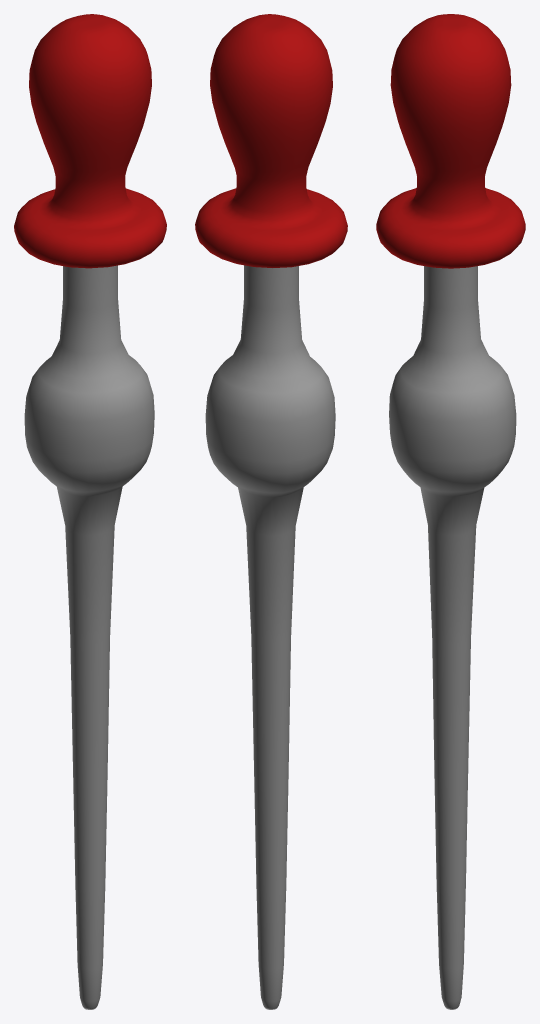
File: Cuentagotas.fbx
The picture shows the model from 3 angles, left to right: view 1: azimuth 30°, elevation 25°; view 2: azimuth 150°, elevation 25°; view 3: azimuth 270°, elevation 25°; orthographic projection.
Visible parts, largest first — view 1: Box015; view 2: Box015; view 3: Box015.
Part boxes in pixels (bbox=[...]): Box015: bbox=[14, 14, 166, 1009]; Box015: bbox=[195, 14, 347, 1009]; Box015: bbox=[376, 14, 525, 1009].
Bounding box in the file's own units: 8.3 × 58.79 × 8.09.
